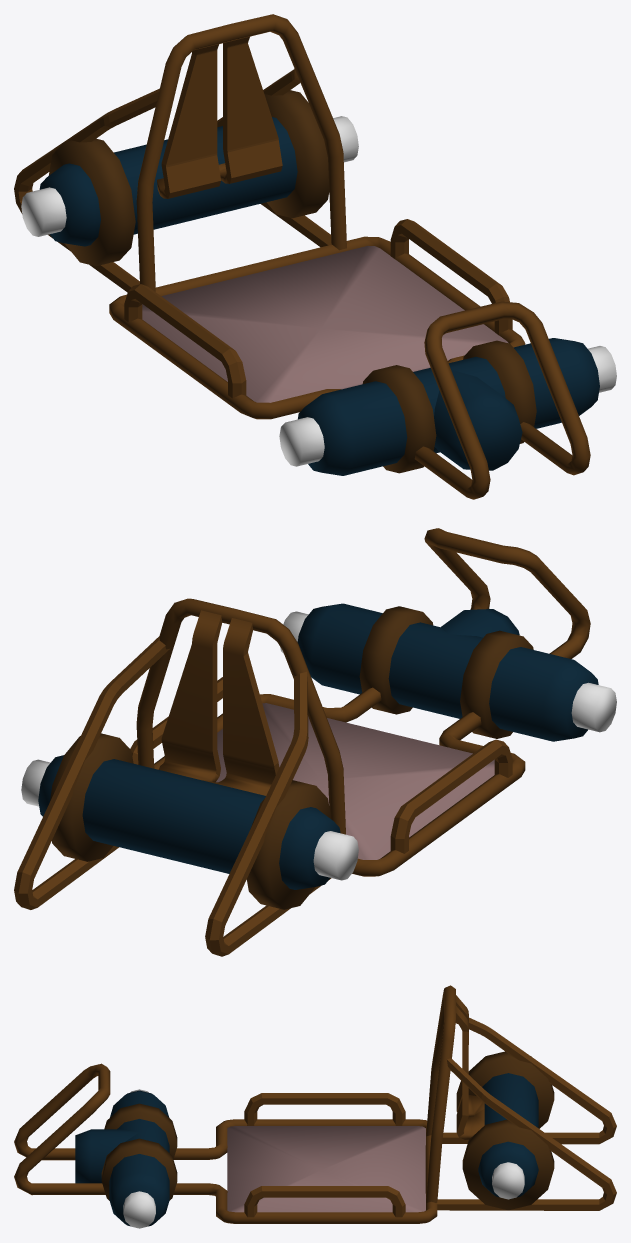
Rendered from Chasis2.fbx.
3 renders of one model, top to bottom at view 1: azimuth 30°, elevation 25°; view 2: azimuth 150°, elevation 25°; view 3: azimuth 270°, elevation 25°, orthographic. The views are drawn at different scales.
Parts seen in each view (by area): view 1: Chasis2; view 2: Chasis2; view 3: Chasis2.
Part boxes in pixels (x1,y1,x2,y2): Chasis2: [14, 14, 616, 499]; Chasis2: [14, 528, 616, 956]; Chasis2: [14, 985, 616, 1228].
Size of the model in its own units: 1.49 by 1.23 by 3.47.
